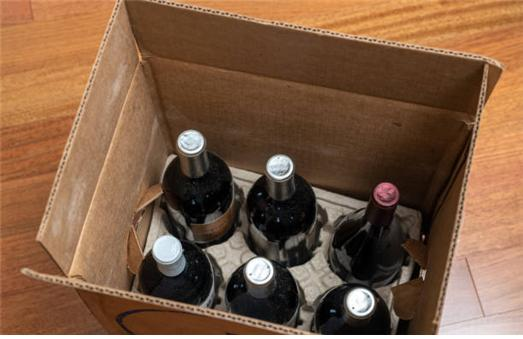alcohol: (328, 181, 411, 287), (160, 129, 237, 243), (242, 153, 319, 264), (137, 235, 214, 318), (226, 257, 300, 336), (314, 284, 393, 339)
